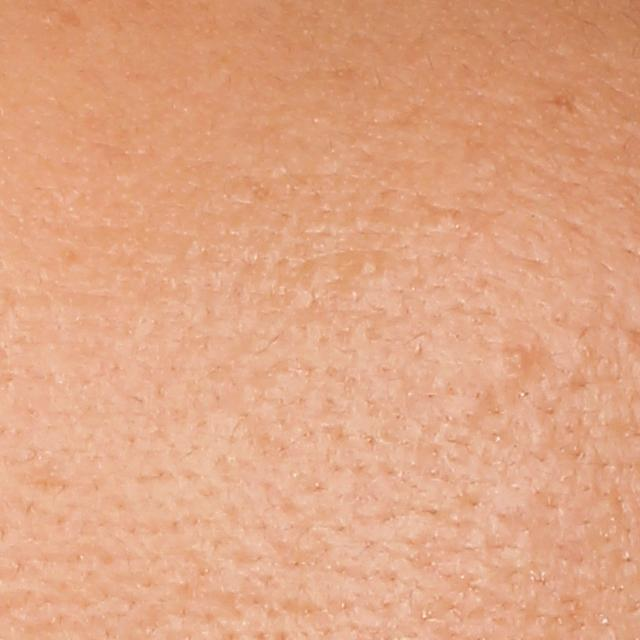comedo: (495, 339, 537, 382), (351, 246, 382, 280)
